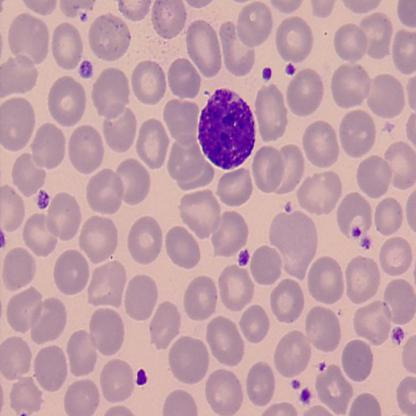Basophil: (195, 86, 257, 173)
